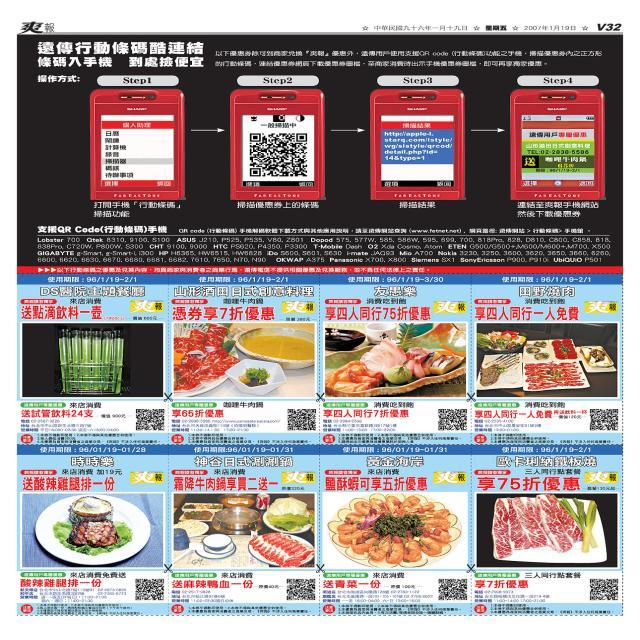qr-code: (250, 134, 306, 176), (286, 579, 316, 600), (135, 579, 164, 600), (438, 579, 467, 600), (438, 409, 466, 430), (288, 409, 316, 430), (590, 409, 618, 430), (136, 409, 164, 430), (590, 579, 618, 600)
